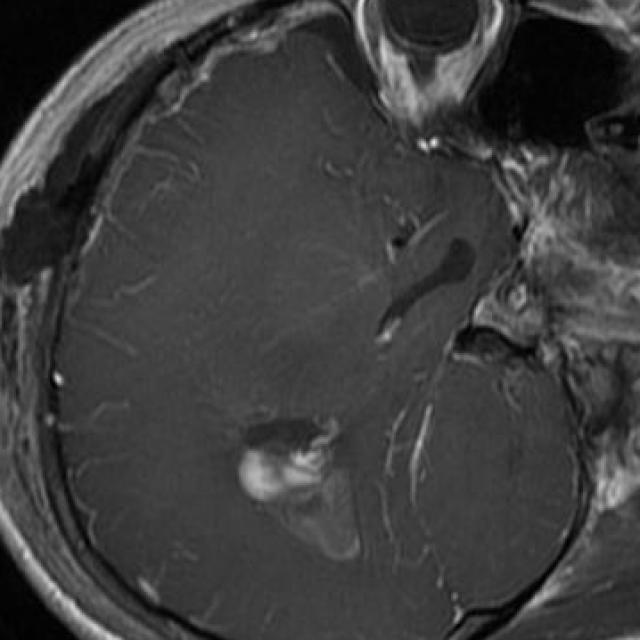glioma: (232, 412, 364, 562)
